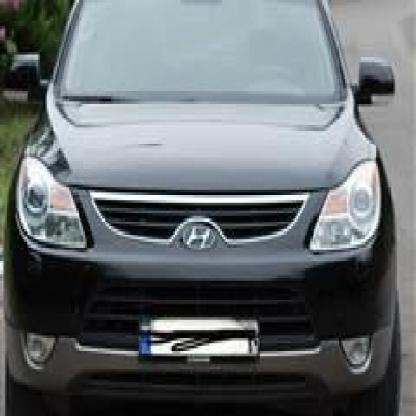Car: (0, 0, 404, 416)
